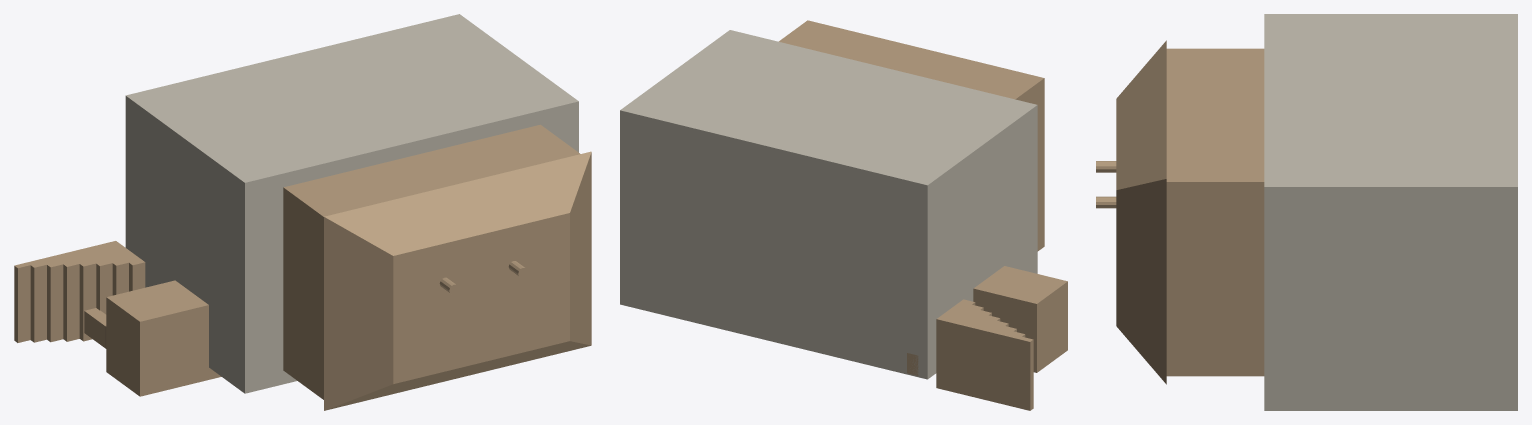
Rendered from romanov-1859-public-v1.glb.
3 views of the same model, side by side, from view 1: azimuth 30°, elevation 25°; view 2: azimuth 150°, elevation 25°; view 3: azimuth 270°, elevation 25° (orthographic). The views are drawn at different scales.
Visible parts, largest first — view 1: reconstructed__terem_roof, documented__stone_chamber, documented__lower_masonry, reconstructed__timber_terem, reconstructed__porch_upper, reconstructed__grand_stair_3, reconstructed__grand_stair_2, reconstructed__grand_stair_1, reconstructed__grand_stair_0, reconstructed__grand_stair_4, reconstructed__grand_stair_5, reconstructed__grand_stair_6 (+2 smaller); view 2: documented__lower_masonry, documented__stone_chamber, reconstructed__timber_terem, reconstructed__porch_upper, reconstructed__grand_stair_7, reconstructed__grand_stair_0, reconstructed__grand_stair_6, reconstructed__grand_stair_4, reconstructed__grand_stair_5, reconstructed__grand_stair_3, reconstructed__grand_stair_1, reconstructed__grand_stair_2; view 3: documented__lower_masonry, documented__stone_chamber, reconstructed__timber_terem, reconstructed__terem_roof.
Boxes of the visible parts, left/top/right/bottom form: reconstructed__terem_roof: left=324, top=151, right=591, bottom=410; documented__stone_chamber: left=191, top=62, right=578, bottom=393; documented__lower_masonry: left=125, top=14, right=524, bottom=291; reconstructed__timber_terem: left=283, top=124, right=580, bottom=399; reconstructed__porch_upper: left=106, top=280, right=221, bottom=396; reconstructed__grand_stair_3: left=52, top=253, right=79, bottom=341; reconstructed__grand_stair_2: left=40, top=256, right=63, bottom=342; reconstructed__grand_stair_1: left=27, top=259, right=46, bottom=342; reconstructed__grand_stair_0: left=14, top=262, right=30, bottom=342; reconstructed__grand_stair_4: left=65, top=250, right=96, bottom=341; reconstructed__grand_stair_5: left=78, top=247, right=112, bottom=314; reconstructed__grand_stair_6: left=91, top=244, right=128, bottom=295; documented__lower_masonry: left=620, top=66, right=988, bottom=379; documented__stone_chamber: left=681, top=30, right=1037, bottom=277; reconstructed__timber_terem: left=779, top=20, right=1044, bottom=251; reconstructed__porch_upper: left=973, top=266, right=1067, bottom=372; reconstructed__grand_stair_7: left=936, top=299, right=975, bottom=390; reconstructed__grand_stair_0: left=1018, top=336, right=1033, bottom=410; reconstructed__grand_stair_6: left=948, top=304, right=983, bottom=393; reconstructed__grand_stair_4: left=971, top=315, right=1000, bottom=399; reconstructed__grand_stair_5: left=960, top=310, right=991, bottom=396; reconstructed__grand_stair_3: left=983, top=320, right=1008, bottom=402; reconstructed__grand_stair_1: left=1006, top=331, right=1025, bottom=407; reconstructed__grand_stair_2: left=995, top=326, right=1016, bottom=404; documented__lower_masonry: left=1378, top=14, right=1517, bottom=410; documented__stone_chamber: left=1264, top=14, right=1377, bottom=410; reconstructed__timber_terem: left=1166, top=48, right=1264, bottom=376; reconstructed__terem_roof: left=1116, top=40, right=1166, bottom=384.
Size of the model in its own units: 16.8 by 8.05 by 12.98.
